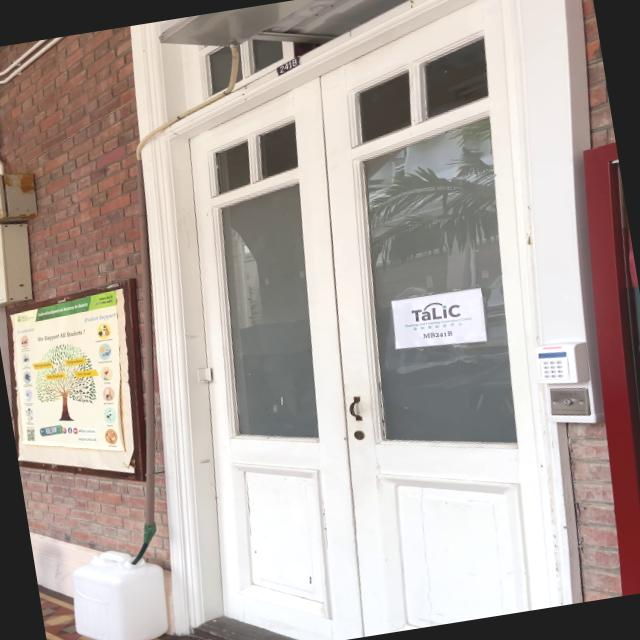room241b: (271, 56, 304, 78)
